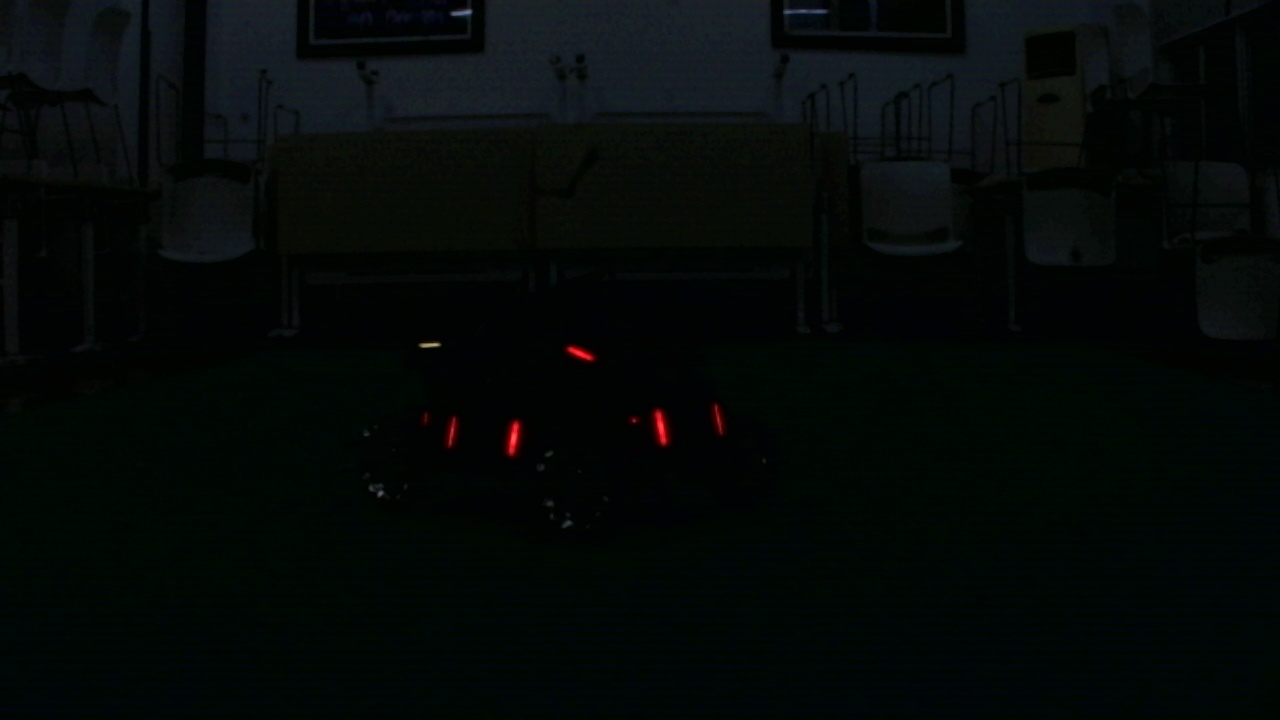lamp: (649, 407, 668, 447), (504, 416, 521, 456)
pair1: (446, 418, 521, 453), (447, 412, 461, 445)
